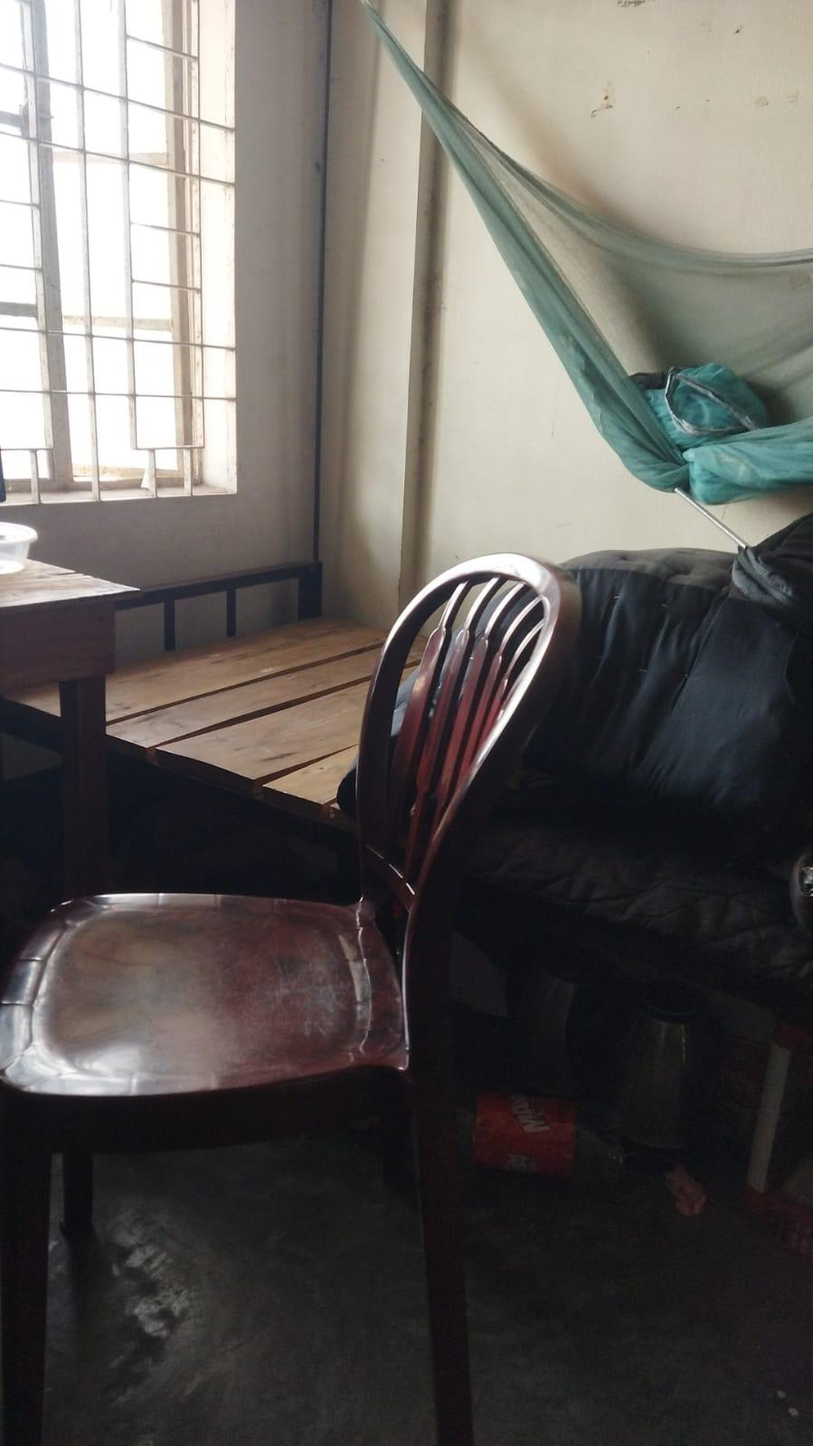Bottle: (426, 1075, 647, 1209)
Chair: (0, 544, 558, 1446)
Table: (0, 449, 99, 896)
